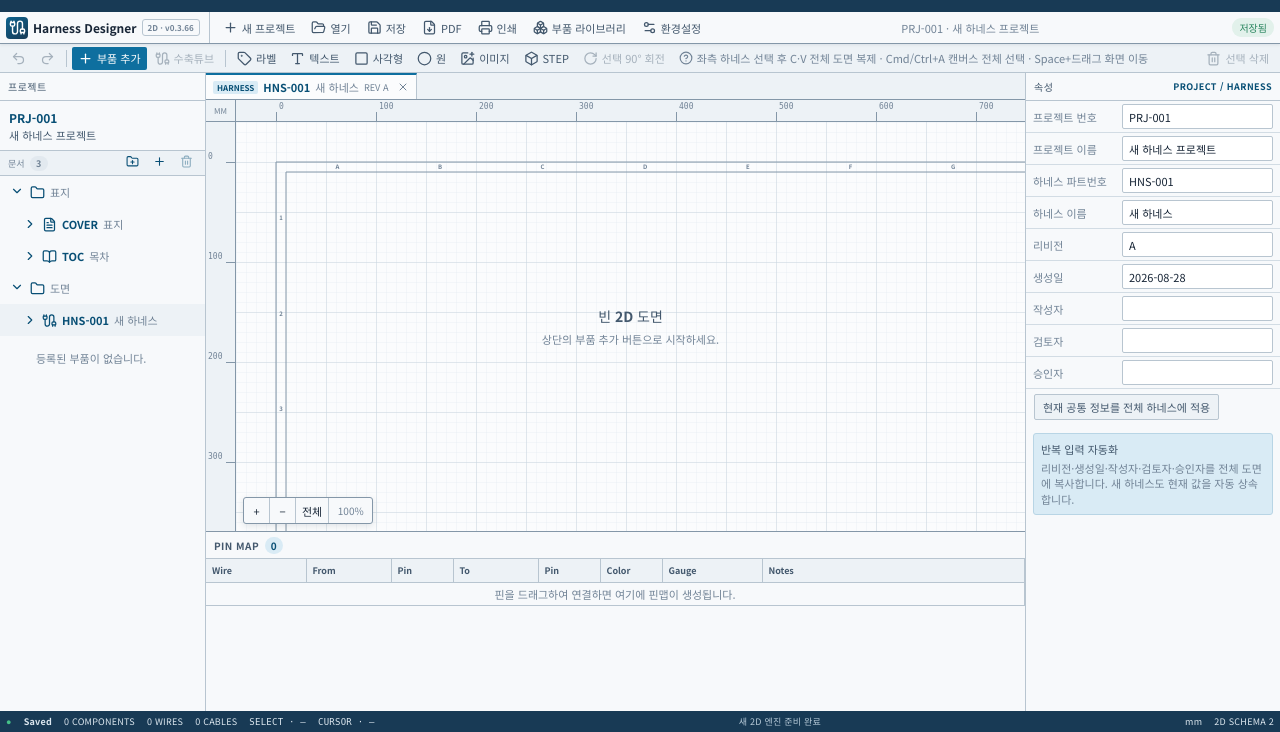
it: 새 2D 편집 화면 › 선택한 하네스 도면을 확인 후 삭제하고 인접 도면으로 전환한다
expect the button named "선택한 하네스 도면 삭제" is disabled: met, box [175, 153, 197, 173]
Click the button named "새 하네스 도면 생성" at (159, 163), box [148, 153, 170, 173]
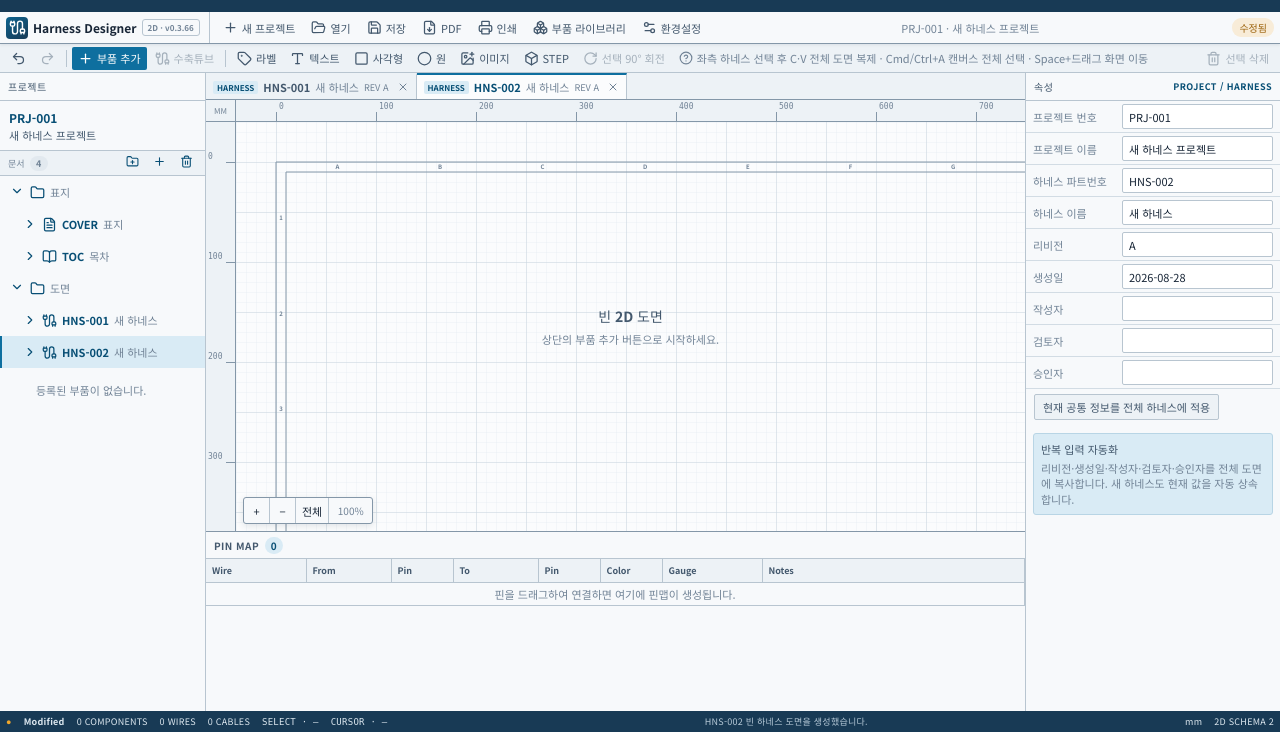
Click the button named "선택한 하네스 도면 삭제" at (186, 163), box [175, 153, 197, 173]
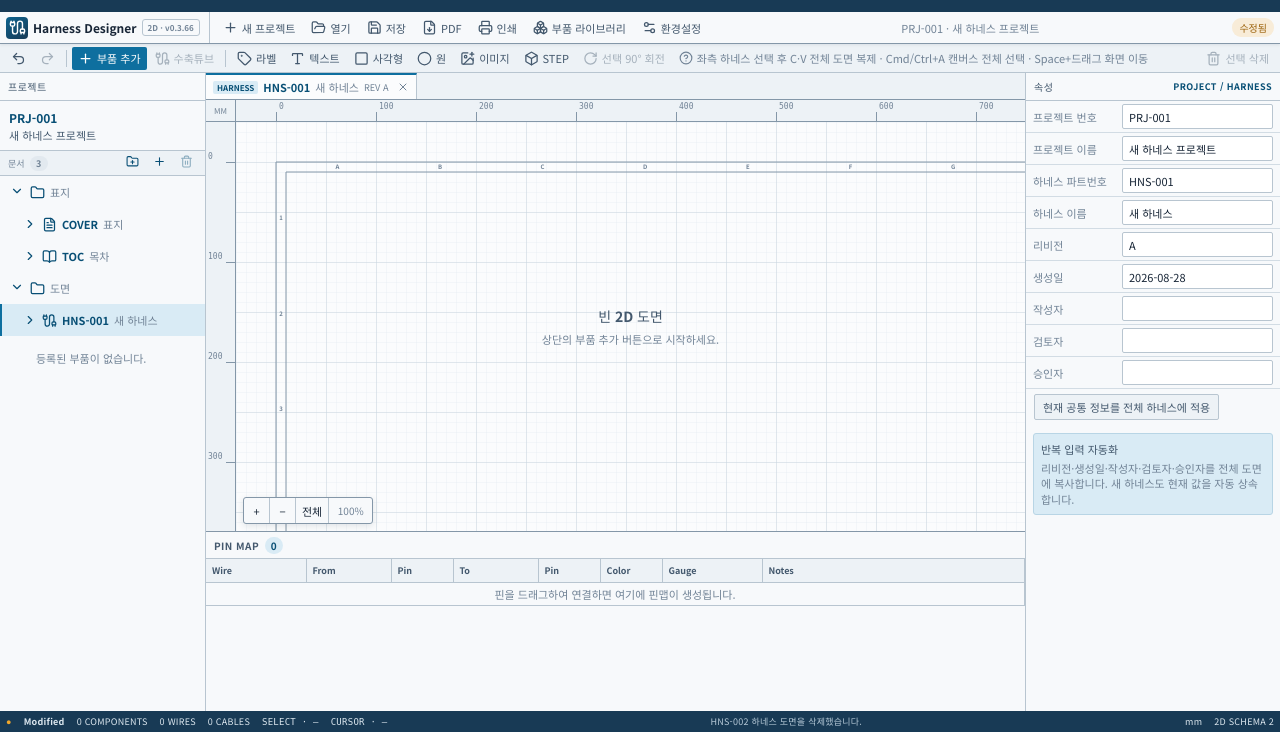
expect the text "HNS-002 하네스 도면을 삭제했습니다." is shown: met, box [710, 715, 862, 728]
expect the button named "선택한 하네스 도면 삭제" is disabled: met, box [175, 153, 197, 173]
